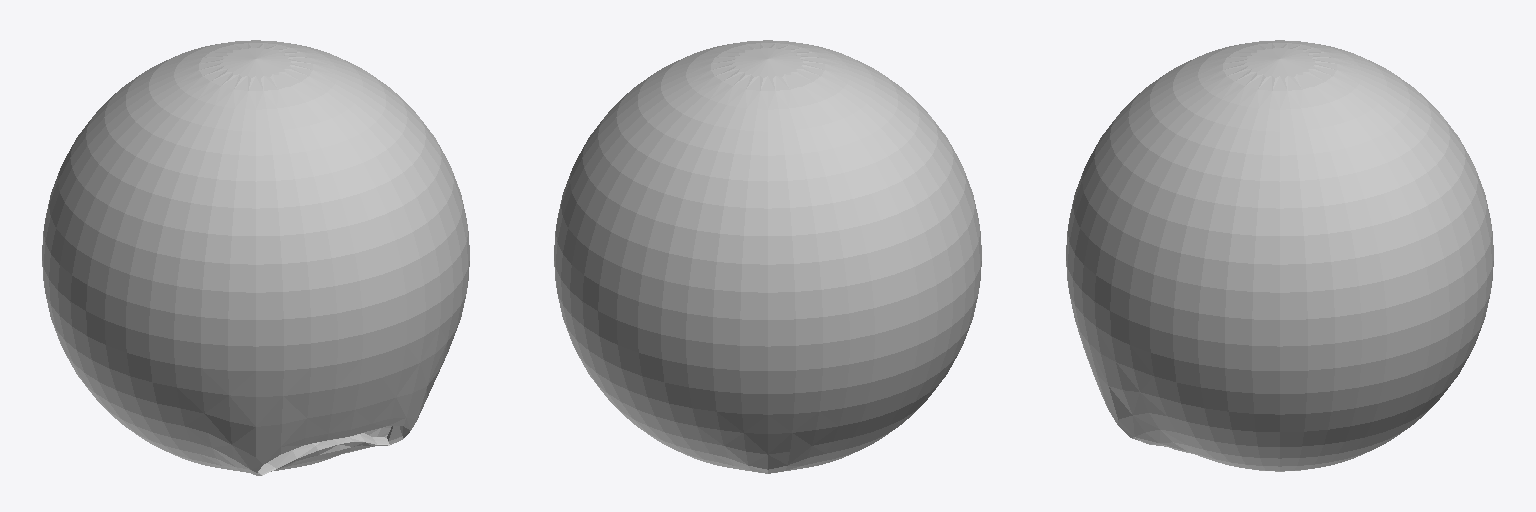
Rendered from morph_sad.obj.
3 views of the same model, side by side, from view 1: azimuth 30°, elevation 25°; view 2: azimuth 150°, elevation 25°; view 3: azimuth 270°, elevation 25° (orthographic).
Visible parts, largest first — view 1: peg_head_ui pegman_head peg_head HyperNURBS_1 HEAD; view 2: peg_head_ui pegman_head peg_head HyperNURBS_1 HEAD; view 3: peg_head_ui pegman_head peg_head HyperNURBS_1 HEAD.
Boxes of the visible parts, x1,y1,x2,y2 form: peg_head_ui pegman_head peg_head HyperNURBS_1 HEAD: [42, 40, 469, 475]; peg_head_ui pegman_head peg_head HyperNURBS_1 HEAD: [554, 40, 981, 473]; peg_head_ui pegman_head peg_head HyperNURBS_1 HEAD: [1066, 40, 1493, 471].
Size of the model in its own units: 88.94 by 90.26 by 88.94.